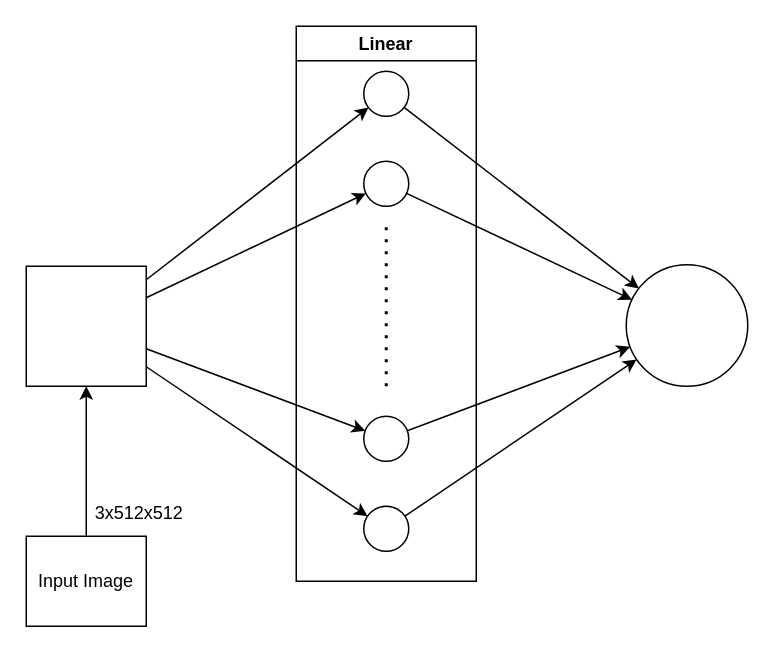
The diagram is 774 pixels wide and 653 high, and some of its shapes have lost their labels. The centre of each missing label's shape, as x and y in pixels:
EfficientNet B0: the point at 85,325
output prediction: the point at 686,324
